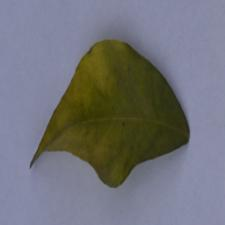Greening: (50, 45, 179, 166)
